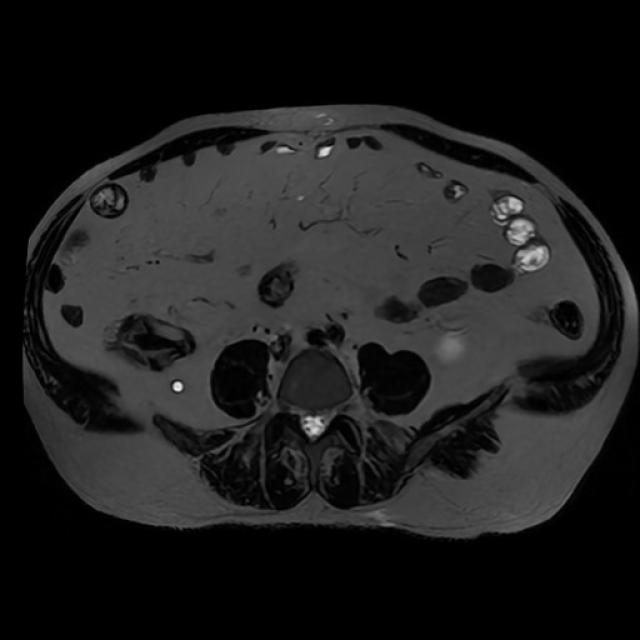sol: (435, 334, 466, 363)
